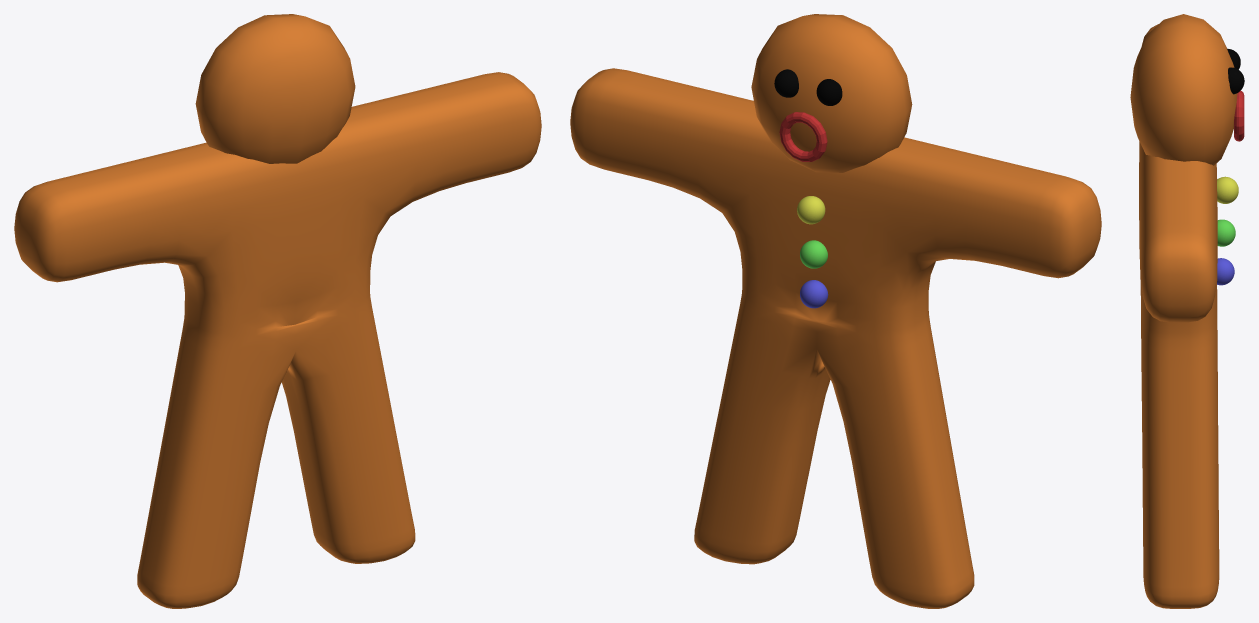
The model's file is gingerbread_man_update.fbx.
3 views of the same model, side by side, from view 1: azimuth 30°, elevation 25°; view 2: azimuth 150°, elevation 25°; view 3: azimuth 270°, elevation 25° (orthographic). The views are drawn at different scales.
Parts seen in each view (by area): view 1: Body, Head; view 2: Body, Head, Mouth; view 3: Body, Head, First Button, Mouth, Second Button, Third Button, Left Eye.
Boxes of the visible parts, bbox=[...] form: Body: bbox=[14, 72, 541, 608]; Head: bbox=[195, 14, 355, 163]; Body: bbox=[570, 68, 1101, 608]; Head: bbox=[751, 14, 912, 172]; Mouth: bbox=[779, 112, 827, 161]; Body: bbox=[1139, 24, 1219, 608]; Head: bbox=[1130, 14, 1237, 165]; First Button: bbox=[1217, 176, 1238, 203]; Mouth: bbox=[1234, 90, 1244, 141]; Second Button: bbox=[1217, 219, 1235, 246]; Third Button: bbox=[1217, 258, 1234, 285]; Left Eye: bbox=[1228, 67, 1244, 94].
Size of the model in its own units: 602 by 633 by 123.
